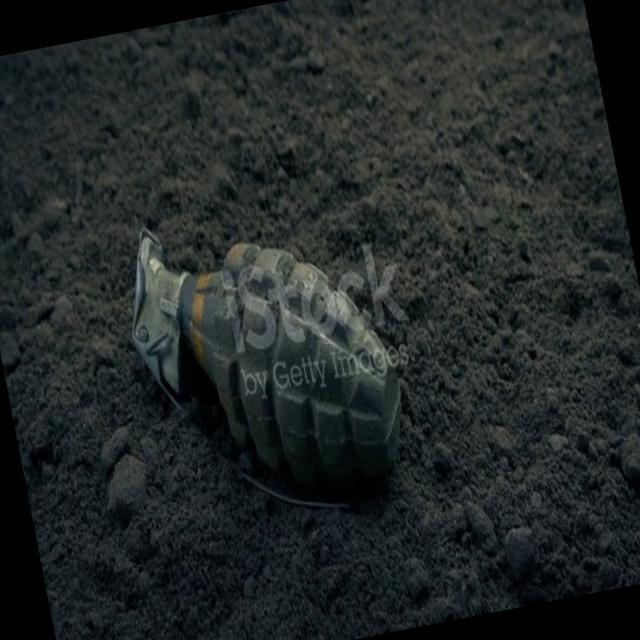grenade: (116, 199, 416, 527)
